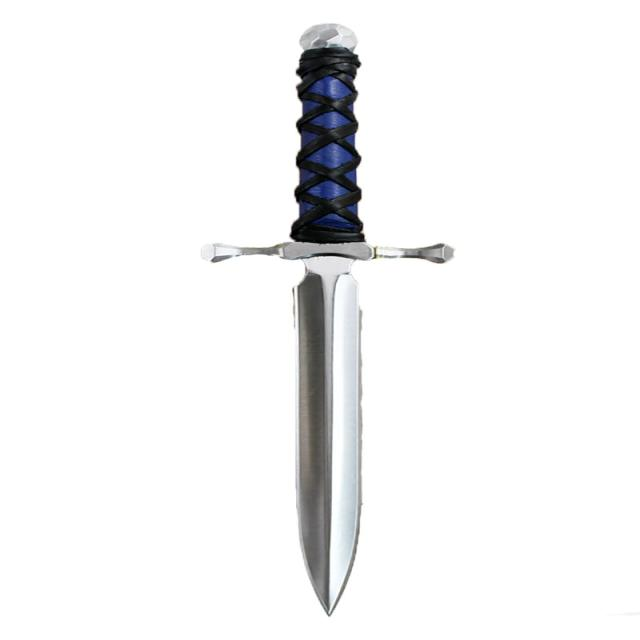Gun: (196, 12, 481, 640)
